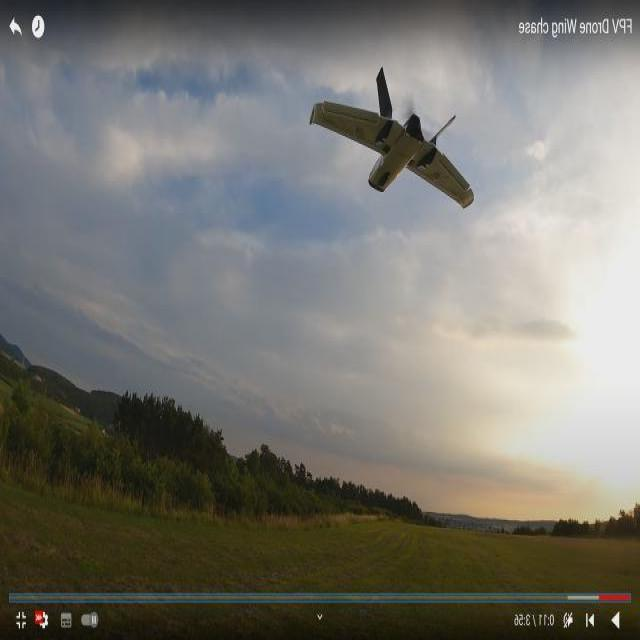UAV: (284, 75, 470, 194)
